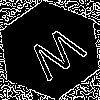W: (25, 25, 95, 90)
